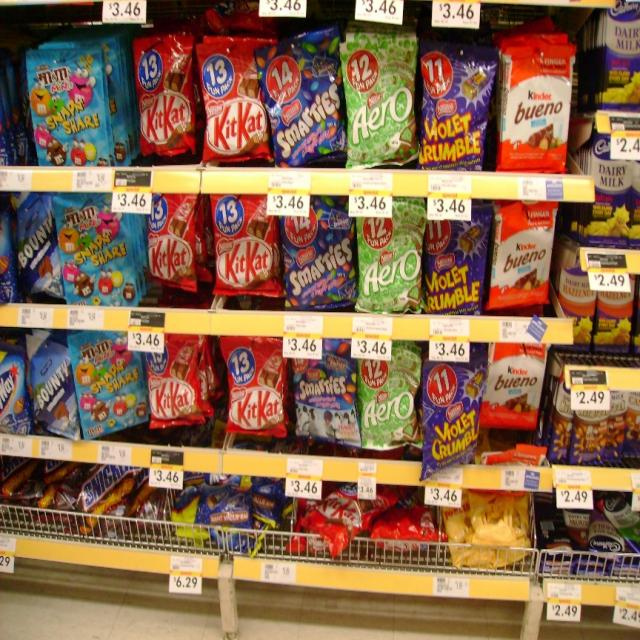q280: (193, 39, 269, 165), (128, 39, 197, 165), (137, 203, 209, 321), (207, 192, 278, 306), (226, 330, 296, 440), (140, 340, 209, 447)
